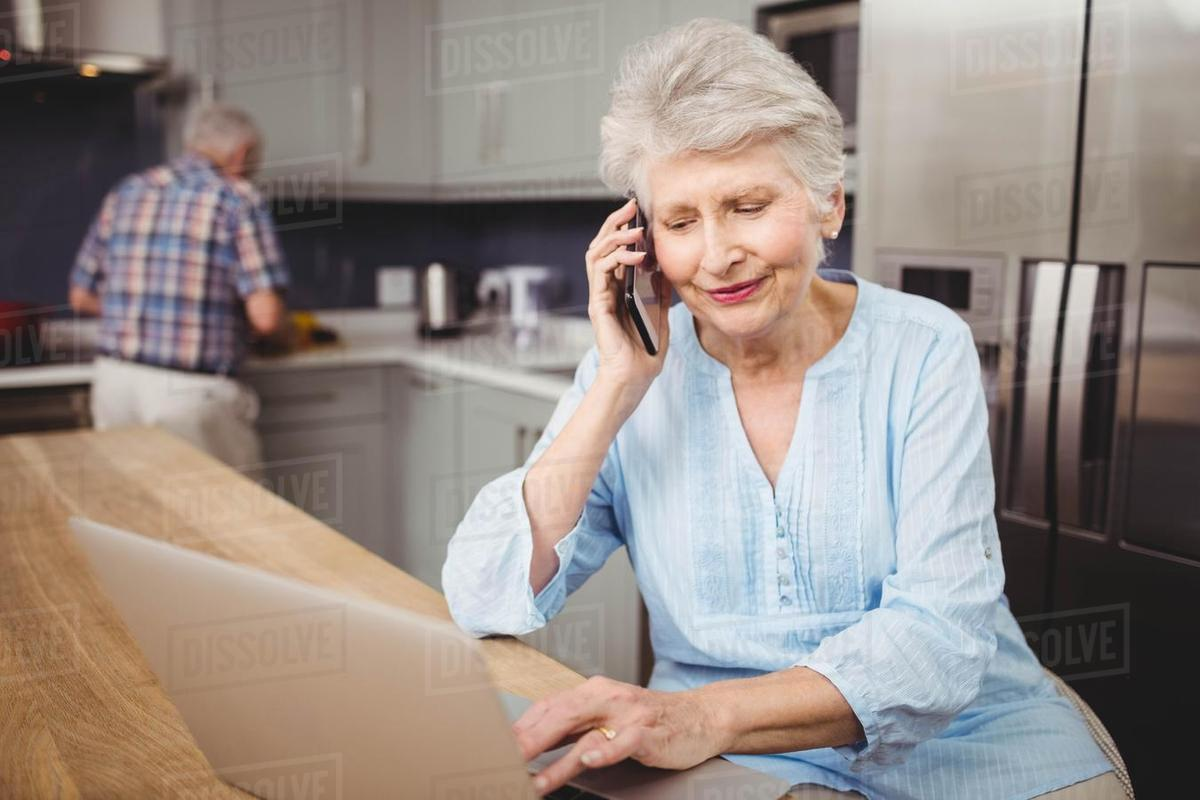phone: (586, 185, 672, 358)
talk: (559, 165, 828, 384)
